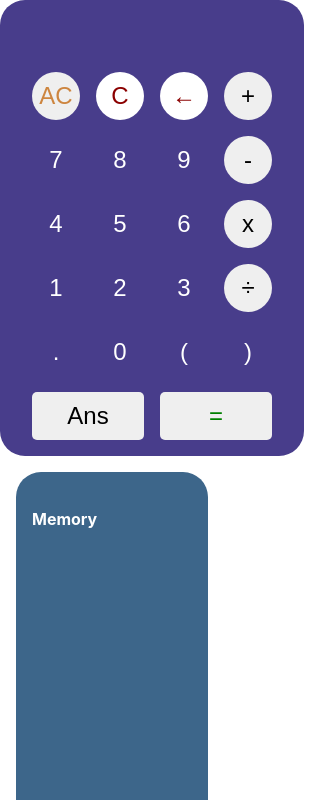
Test case: <Calculator /> › displays the equation when you type
Click the button "4".
click(56, 224)  # box [32,200,80,248]
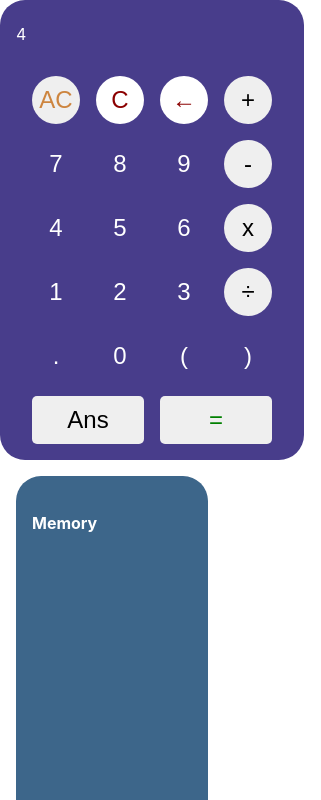
Click the button "+".
click(248, 100)  # box [224,76,272,124]
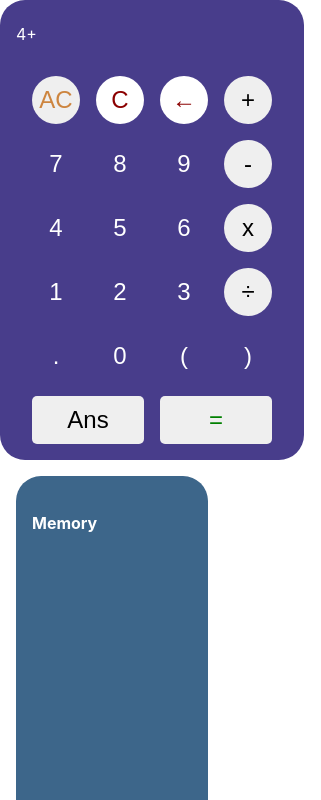
Expected: the text "4+" is shown, [16,24,37,44]
